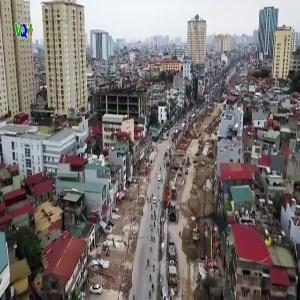drone: (172, 181, 260, 269)
